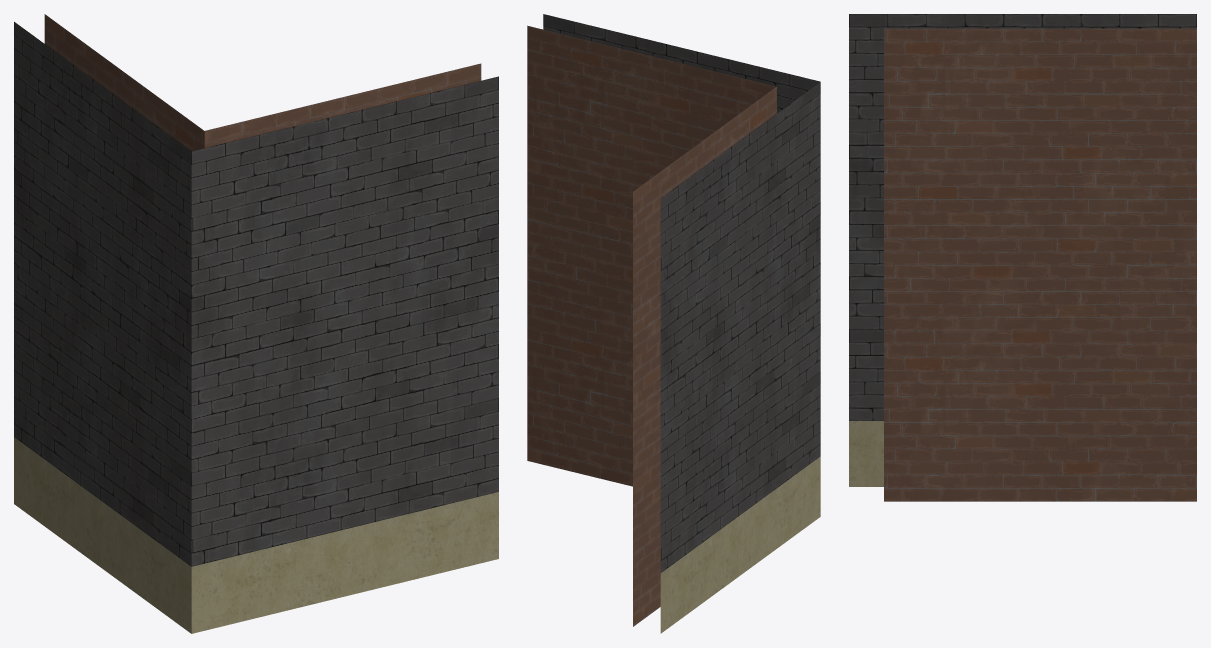
The model's file is WornBrick_Bottom_Corner.gltf.
The picture shows the model from 3 angles, left to right: view 1: azimuth 30°, elevation 25°; view 2: azimuth 150°, elevation 25°; view 3: azimuth 270°, elevation 25°; orthographic projection. The views are drawn at different scales.
Visible parts, largest first — view 1: WornBrick_Bottom_Corner; view 2: WornBrick_Bottom_Corner; view 3: WornBrick_Bottom_Corner.
Boxes of the visible parts, x1,y1,x2,y2 form: WornBrick_Bottom_Corner: (14, 14, 498, 633); WornBrick_Bottom_Corner: (527, 14, 820, 633); WornBrick_Bottom_Corner: (849, 14, 1196, 501).
Bounding box in the file's own units: 2 × 3 × 2.
3 materials, 3 textured.
